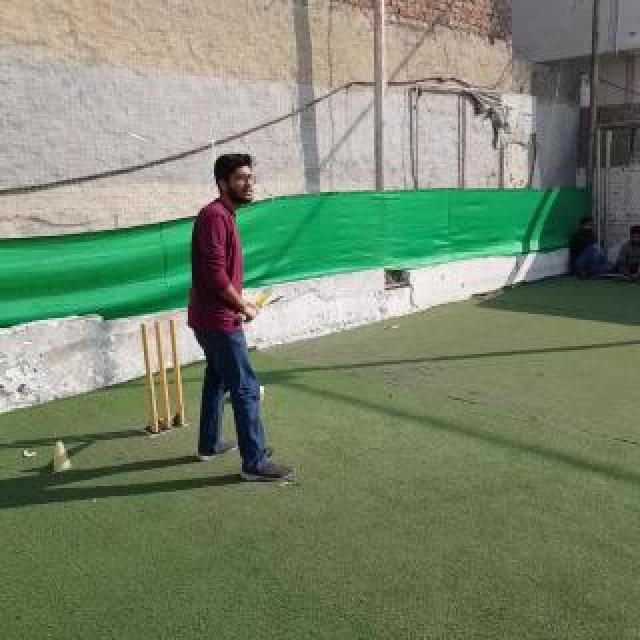bat: (234, 290, 284, 324)
